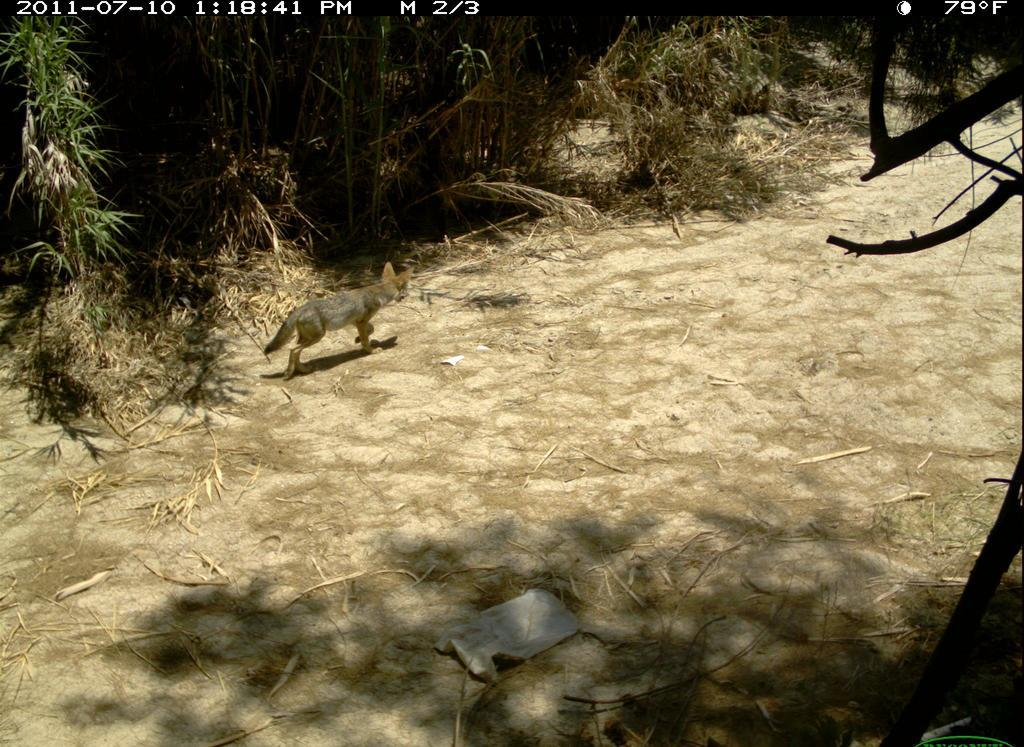coyote: (259, 257, 420, 390)
